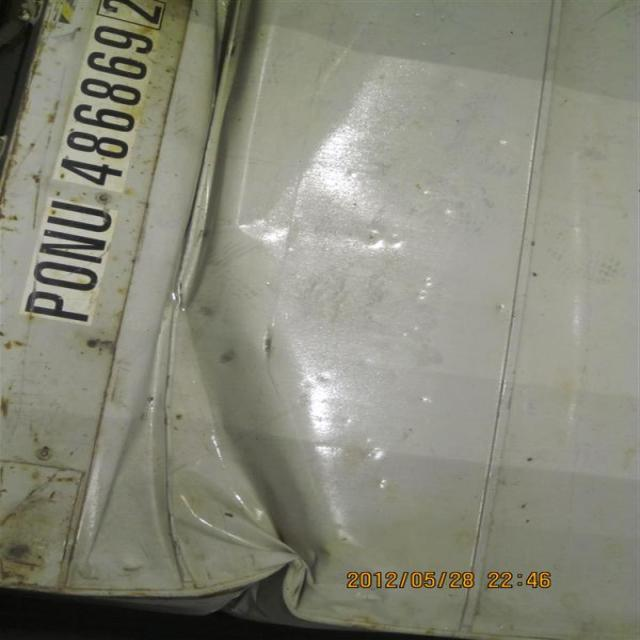dent: (155, 288, 338, 549), (52, 518, 368, 635), (177, 1, 278, 311)
